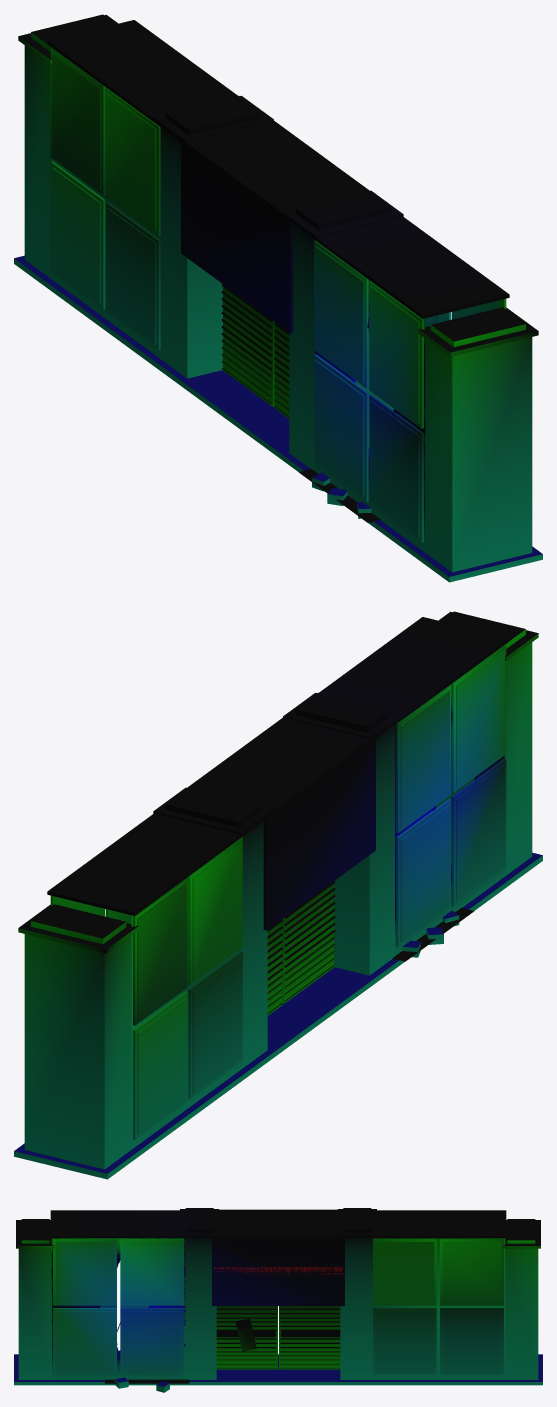
File: d_heavygate_damaged.glb
The picture shows the model from 3 angles, top to bottom: view 1: azimuth 30°, elevation 25°; view 2: azimuth 150°, elevation 25°; view 3: azimuth 270°, elevation 25°; orthographic projection. The views are drawn at different scales.
Parts seen in each view (by area): view 1: lod0, door_l, door_r; view 2: lod0, door_r, door_l; view 3: lod0, door_l, door_r.
Boxes of the visible parts, x1=… form: lod0: x1=14, y1=14, x2=542, y2=582; door_l: x1=221, y1=284, x2=274, y2=406; door_r: x1=274, y1=322, x2=289, y2=418; lod0: x1=14, y1=611, x2=542, y2=1179; door_r: x1=282, y1=881, x2=335, y2=1003; door_l: x1=267, y1=919, x2=282, y2=1015; lod0: x1=14, y1=1208, x2=542, y2=1392; door_l: x1=279, y1=1306, x2=340, y2=1369; door_r: x1=216, y1=1306, x2=277, y2=1369.
Size of what is drawn, in the model's own units: 9.84 by 17.98 by 56.4.
